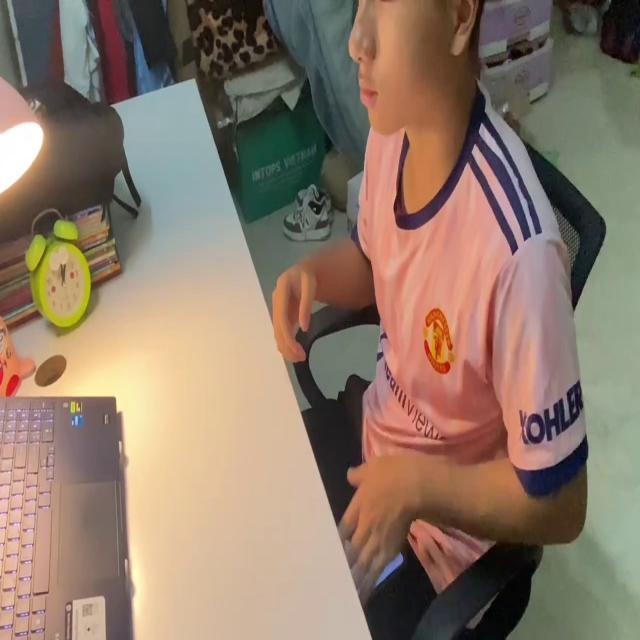laptop: (1, 391, 133, 640)
student: (268, 0, 598, 588)
